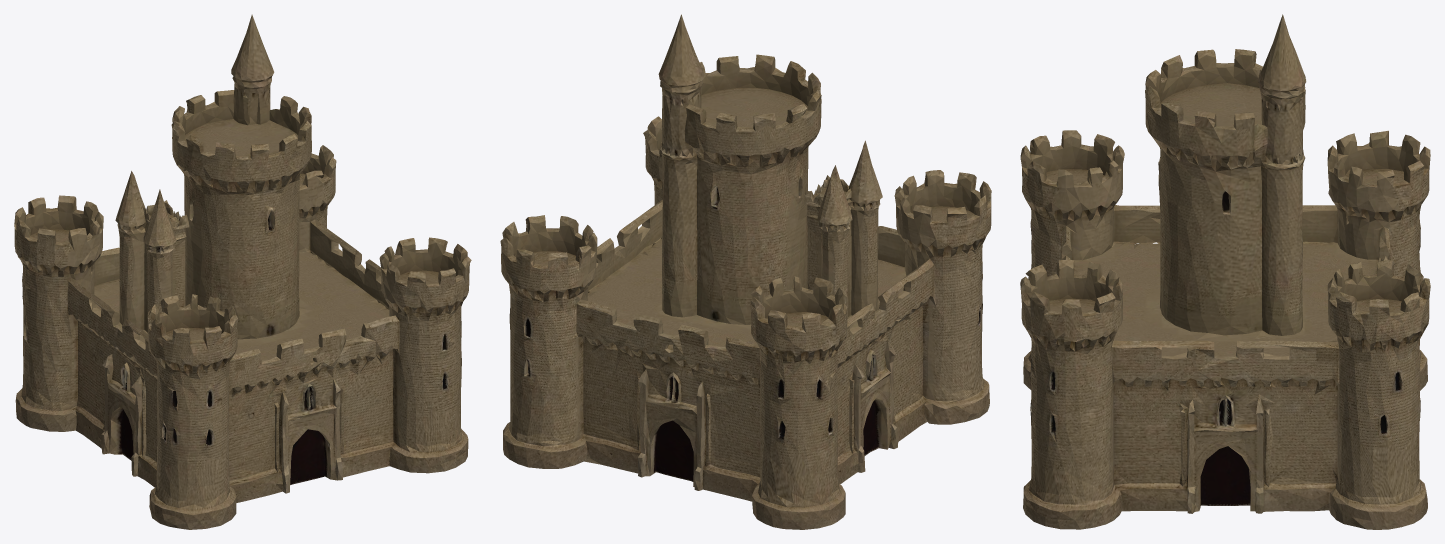
File: tripo_convert_d9c7a13d-d78d-4980-9ced-654affcc4e08.obj
3 renders of one model, left to right at view 1: azimuth 30°, elevation 25°; view 2: azimuth 150°, elevation 25°; view 3: azimuth 270°, elevation 25°, orthographic. The views are drawn at different scales.
Parts seen in each view (by area): view 1: tripo_node_d9c7a13d-d78d-4980-9ced-654affcc4e08; view 2: tripo_node_d9c7a13d-d78d-4980-9ced-654affcc4e08; view 3: tripo_node_d9c7a13d-d78d-4980-9ced-654affcc4e08.
Boxes of the visible parts, left/top/right/bottom form: tripo_node_d9c7a13d-d78d-4980-9ced-654affcc4e08: left=14, top=14, right=471, bottom=529; tripo_node_d9c7a13d-d78d-4980-9ced-654affcc4e08: left=500, top=14, right=991, bottom=529; tripo_node_d9c7a13d-d78d-4980-9ced-654affcc4e08: left=1020, top=14, right=1430, bottom=529.
Bounding box in the file's own units: 0.8062 × 0.9782 × 0.8089.
Materials: 1 (1 with a texture image).
